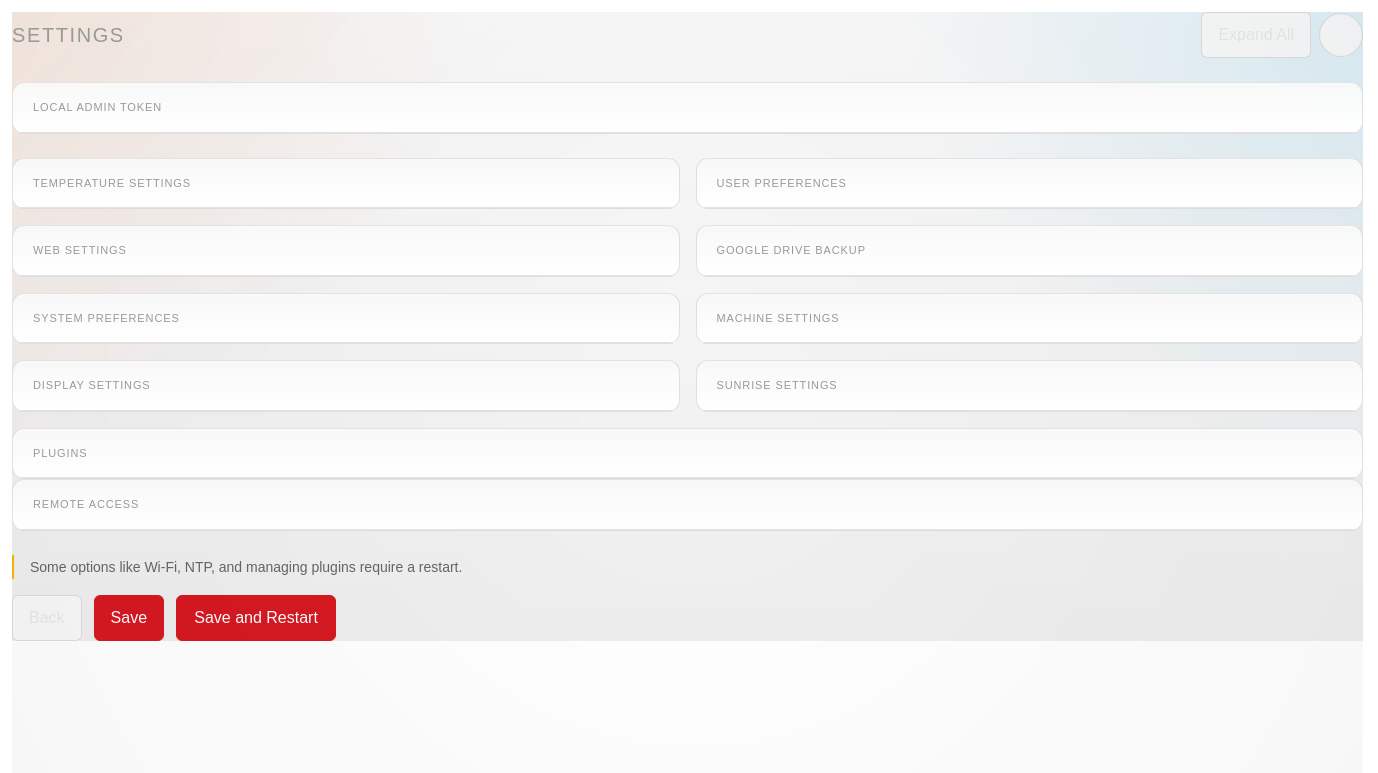
Settings collapsible cards (PRO-572) › in-page LocalAuthRecoveryCard is collapsible and default collapsed
Click the button "Local admin token" at (98, 107), box [33, 99, 1342, 116]
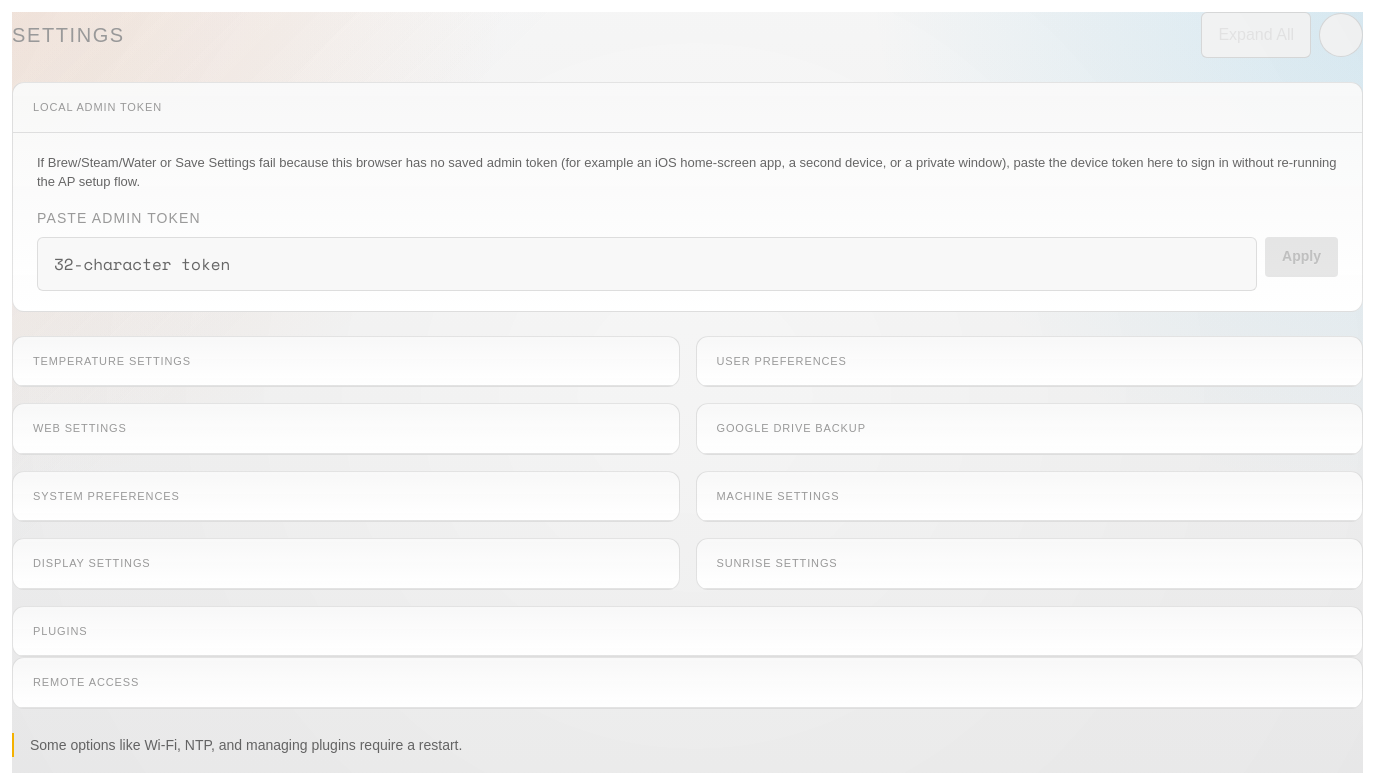
Expected: the field labelled "Paste admin token" is shown, [37, 236, 1257, 290]
